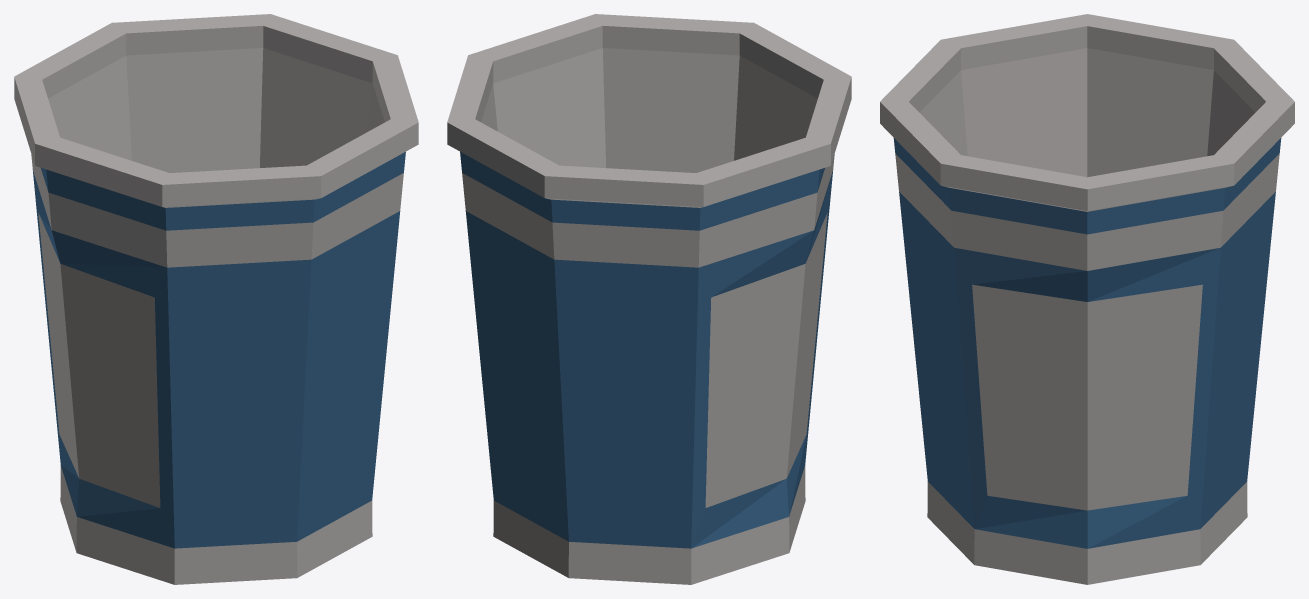
File: PaperCup.obj
3 views of the same model, side by side, from view 1: azimuth 30°, elevation 25°; view 2: azimuth 150°, elevation 25°; view 3: azimuth 270°, elevation 25° (orthographic).
Visible parts, largest first — view 1: PaperCup; view 2: PaperCup; view 3: PaperCup.
Boxes of the visible parts, x1,y1,x2,y2 form: PaperCup: [14, 14, 418, 584]; PaperCup: [447, 14, 851, 584]; PaperCup: [880, 14, 1294, 584].
Size of the model in its own units: 0.1357 by 0.15 by 0.1357.
Materials: 1 (1 with a texture image).
